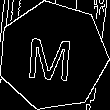M_N: (28, 29, 78, 82)
